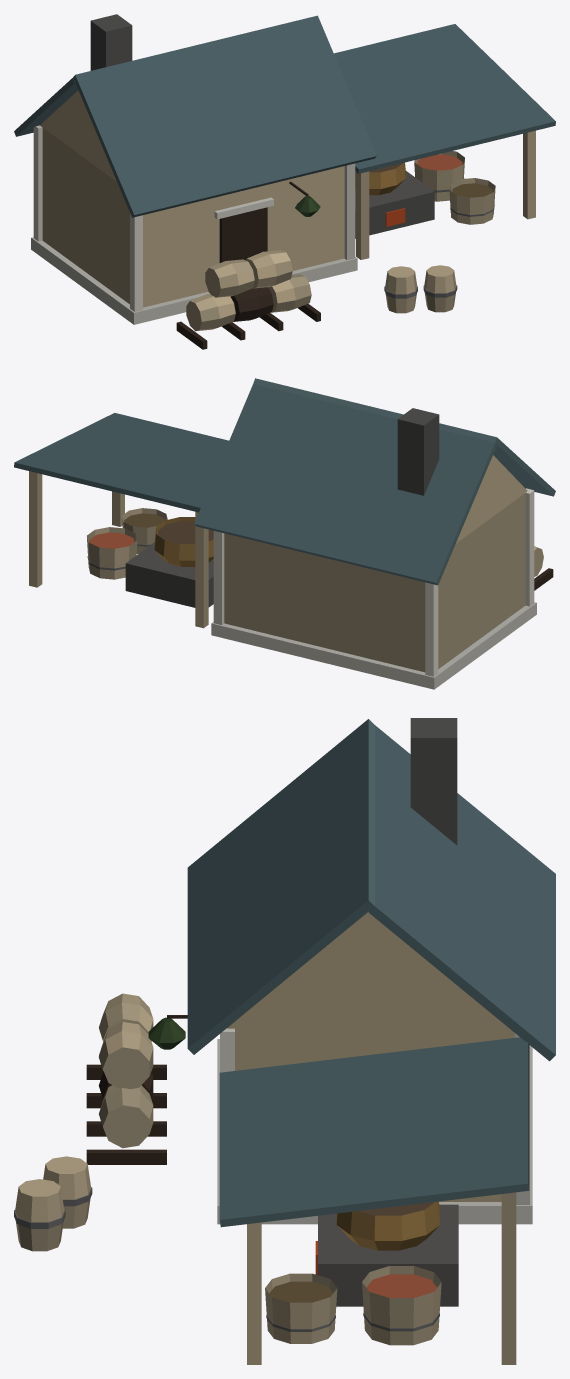
Rendered from walk_veiled_brewery.glb.
The picture shows the model from 3 angles, top to bottom: view 1: azimuth 30°, elevation 25°; view 2: azimuth 150°, elevation 25°; view 3: azimuth 270°, elevation 25°; orthographic projection. The views are drawn at different scales.
Parts seen in each view (by area): view 1: walk_veiled_brewery_roof, walk_veiled_brewery; view 2: walk_veiled_brewery_roof, walk_veiled_brewery; view 3: walk_veiled_brewery_roof, walk_veiled_brewery.
Boxes of the visible parts, x1,y1,x2,y2 form: walk_veiled_brewery_roof: (14,14,555,217); walk_veiled_brewery: (31,90,535,349); walk_veiled_brewery_roof: (14,378,555,585); walk_veiled_brewery: (29,455,553,689); walk_veiled_brewery_roof: (187,718,555,1227); walk_veiled_brewery: (14,912,532,1364).
Size of what is drawn, in the model's own units: 11.4 by 6.01 by 8.08.
Materials: 2 (2 with a texture image).
